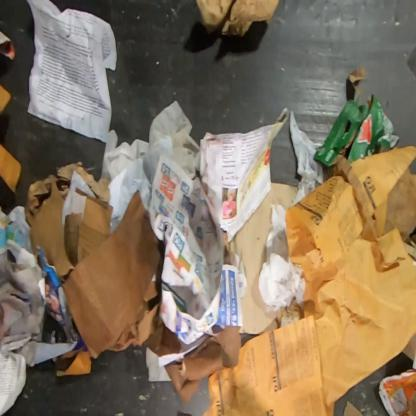cardboard: (60, 190, 183, 360), (230, 182, 298, 335), (29, 169, 114, 284), (312, 66, 402, 168), (163, 326, 243, 404), (195, 0, 280, 38), (384, 166, 415, 243), (401, 330, 415, 362), (404, 233, 415, 264)
